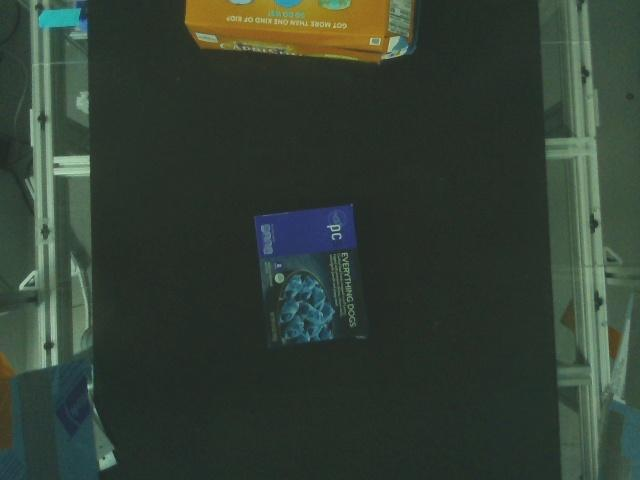cardboard: (249, 199, 377, 355), (180, 0, 427, 68)
